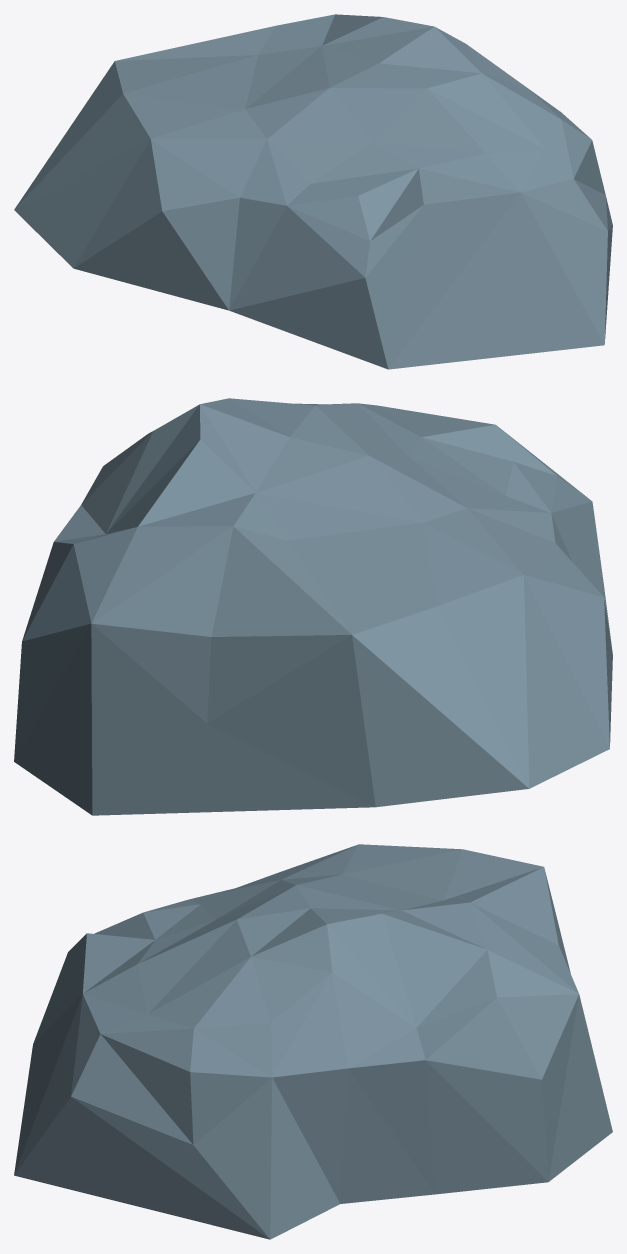
The model's file is Woods Boulder Flat.glb.
The picture shows the model from 3 angles, top to bottom: view 1: azimuth 30°, elevation 25°; view 2: azimuth 150°, elevation 25°; view 3: azimuth 270°, elevation 25°; orthographic projection. The views are drawn at different scales.
Visible parts, largest first — view 1: group561706230; view 2: group561706230; view 3: group561706230.
Part boxes in pixels (x1,y1,x2,y2): group561706230: (14,14,612,369); group561706230: (14,398,612,815); group561706230: (14,844,612,1239).
Size of the model in its own units: 2.91 by 1.23 by 2.82.
